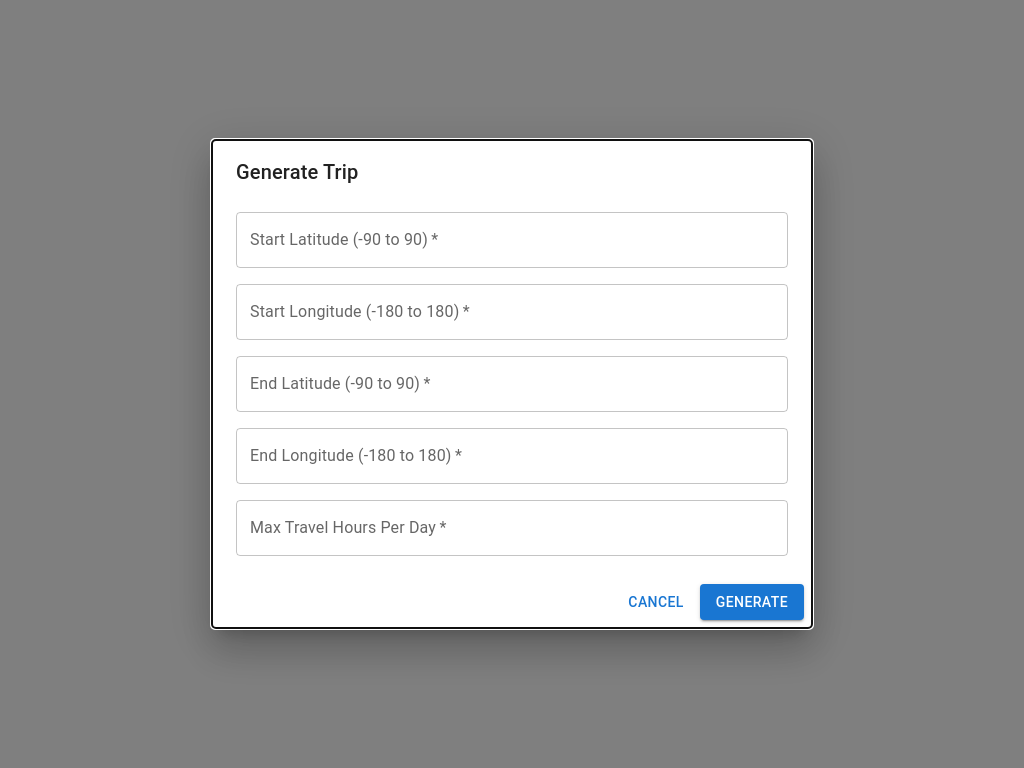
Test: GenerateTripForm Frontend Unit Tests › FUT21 - Generate Trip Form shows Error
In the field labelled "Start Latitude (-90 to 90) *": (512, 240) [236,212,788,268], type "100"
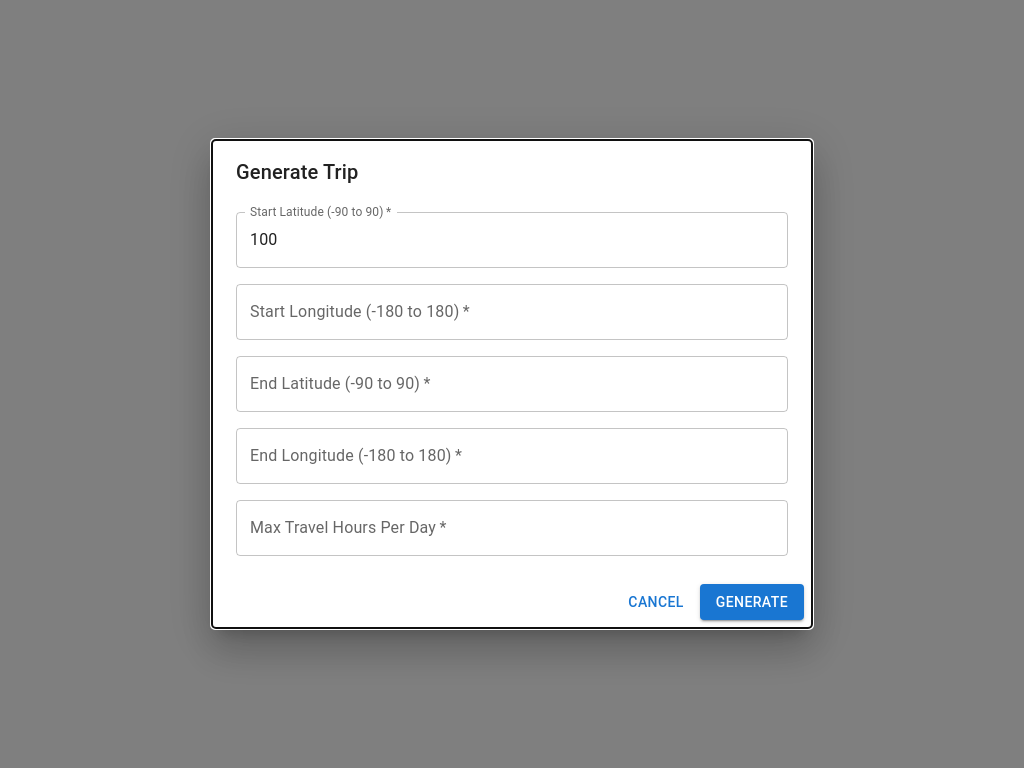
In the field labelled "Start Longitude (-180 to 180) *": (512, 312) [236,284,788,340], type "0"
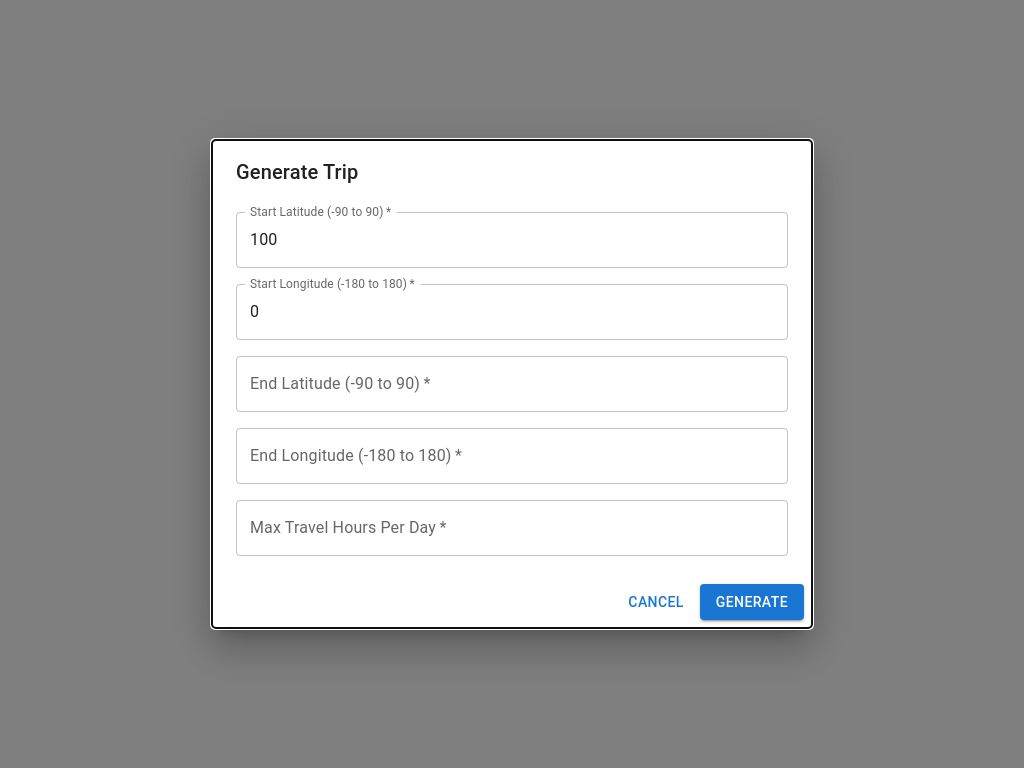
In the field labelled "End Latitude (-90 to 90) *": (512, 384) [236,356,788,412], type "0"
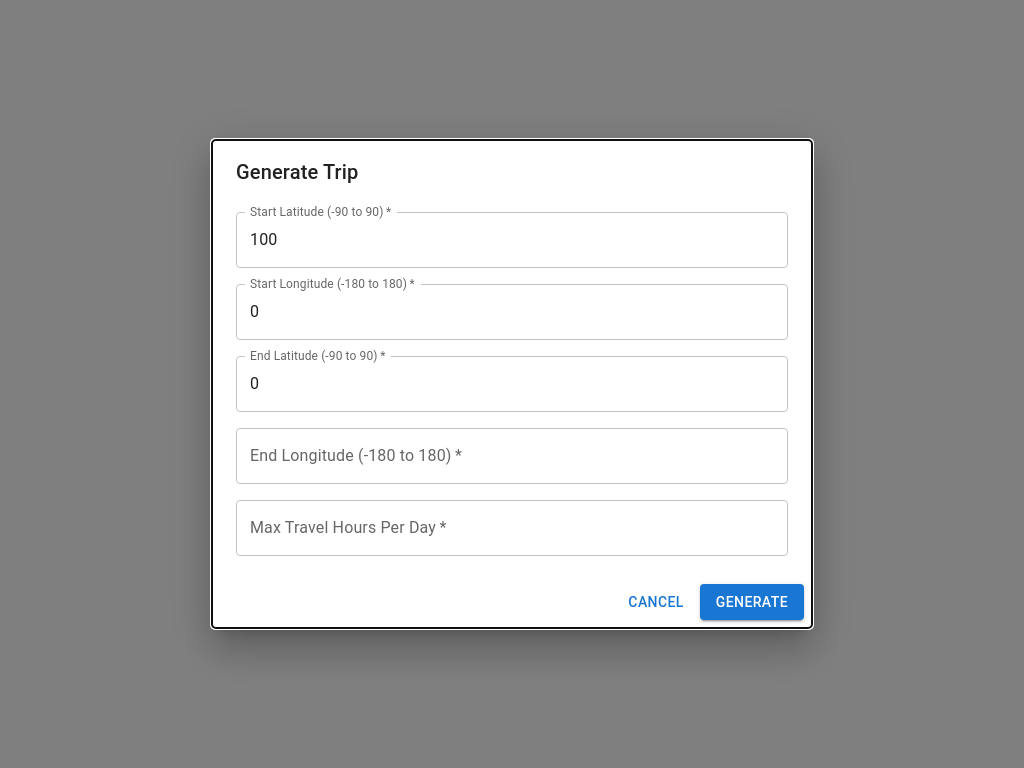
In the field labelled "End Longitude (-180 to 180) *": (512, 456) [236,428,788,484], type "0"
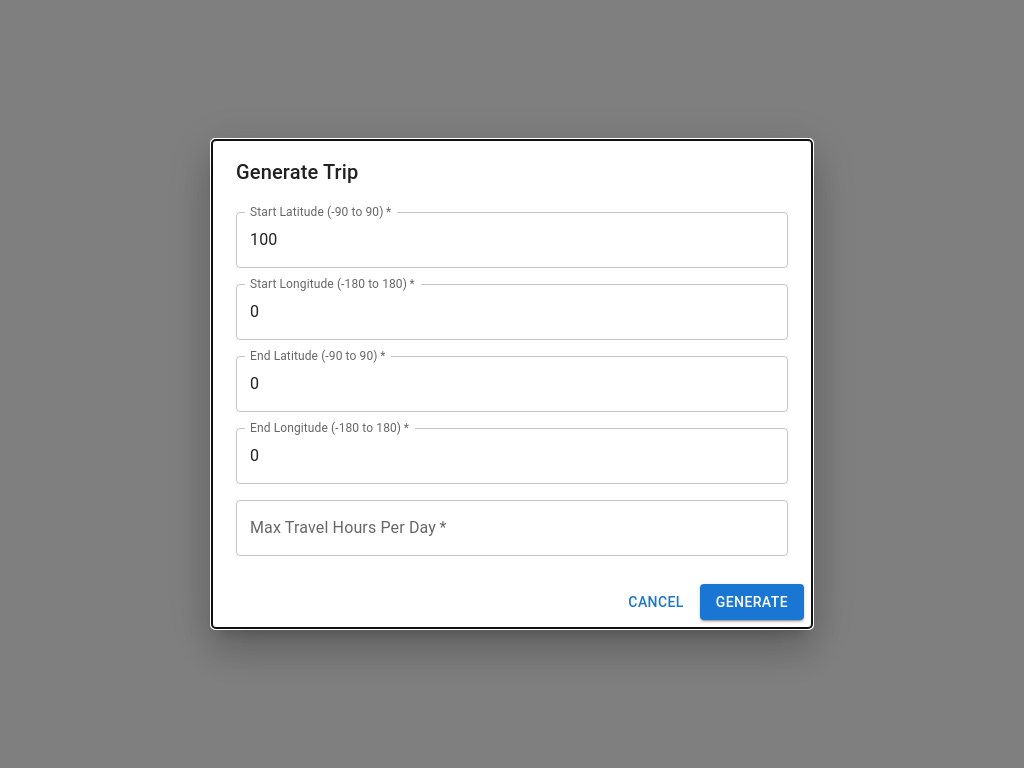
In the field labelled "Max Travel Hours Per Day *": (512, 528) [236,500,788,556], type "7"
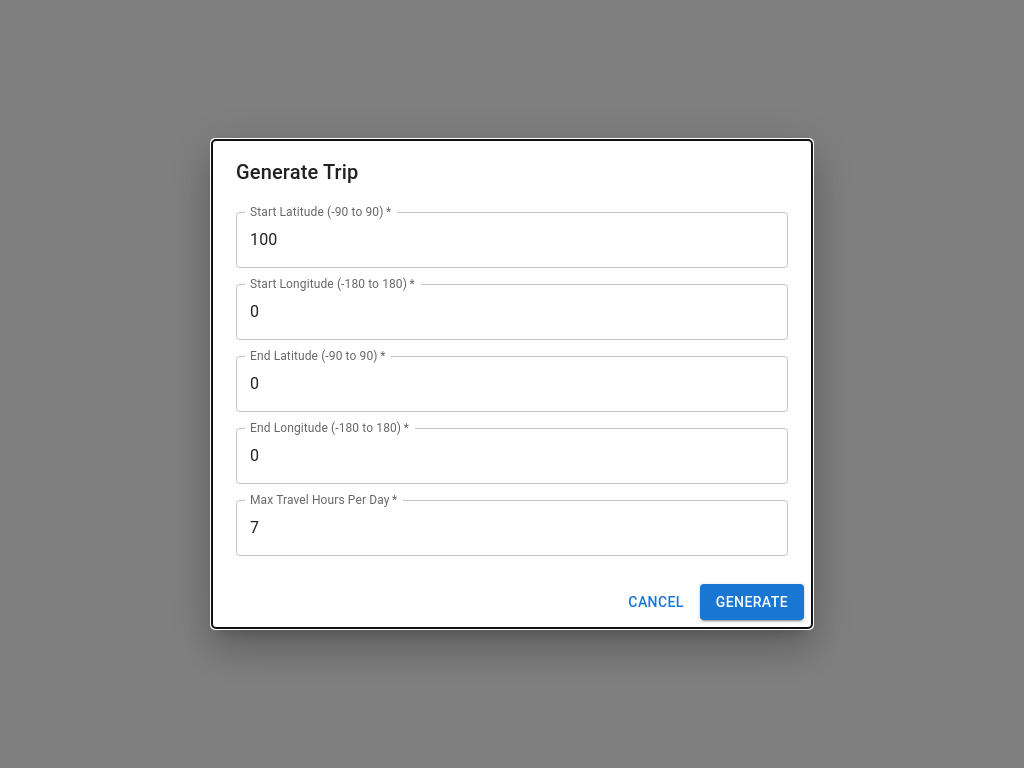
Click the button "Generate": (752, 602) [700,584,804,620]
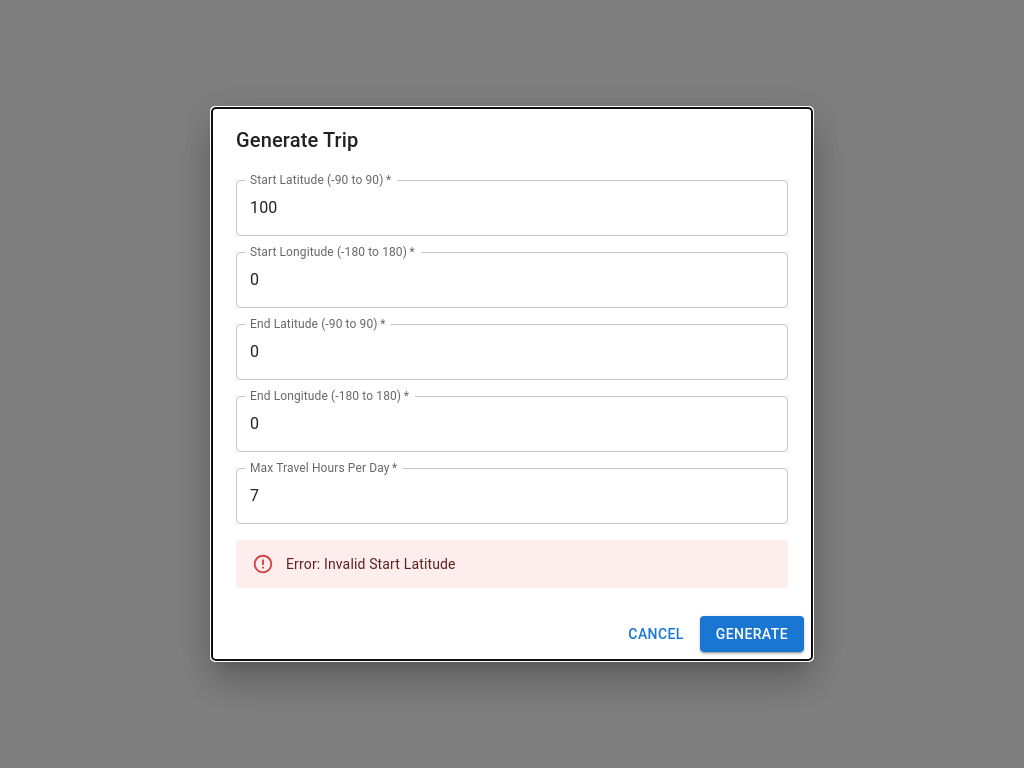
expect the text "Error: Invalid Start Latitude" is shown: met, box [286,556,456,572]
